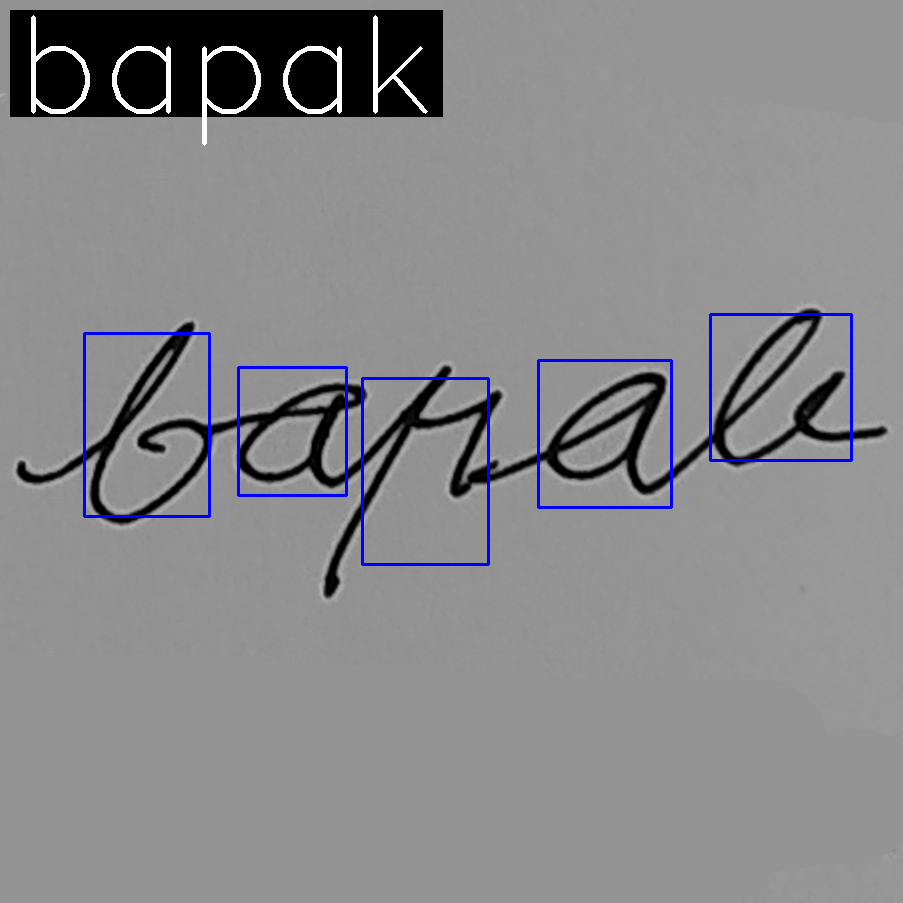a: (542, 369, 670, 500), (233, 380, 368, 491)
b: (86, 318, 215, 527)
k: (708, 305, 889, 468)
p: (319, 362, 504, 600)
